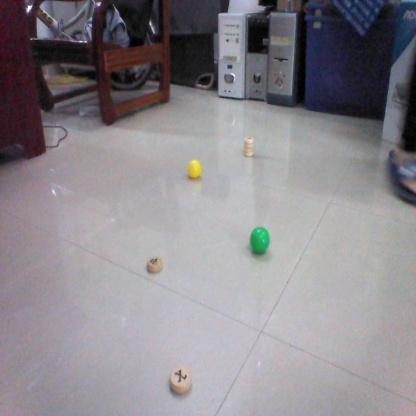ball: (250, 225, 272, 253), (187, 161, 203, 179)
chess: (172, 369, 196, 392), (243, 133, 258, 160), (146, 255, 165, 275)
